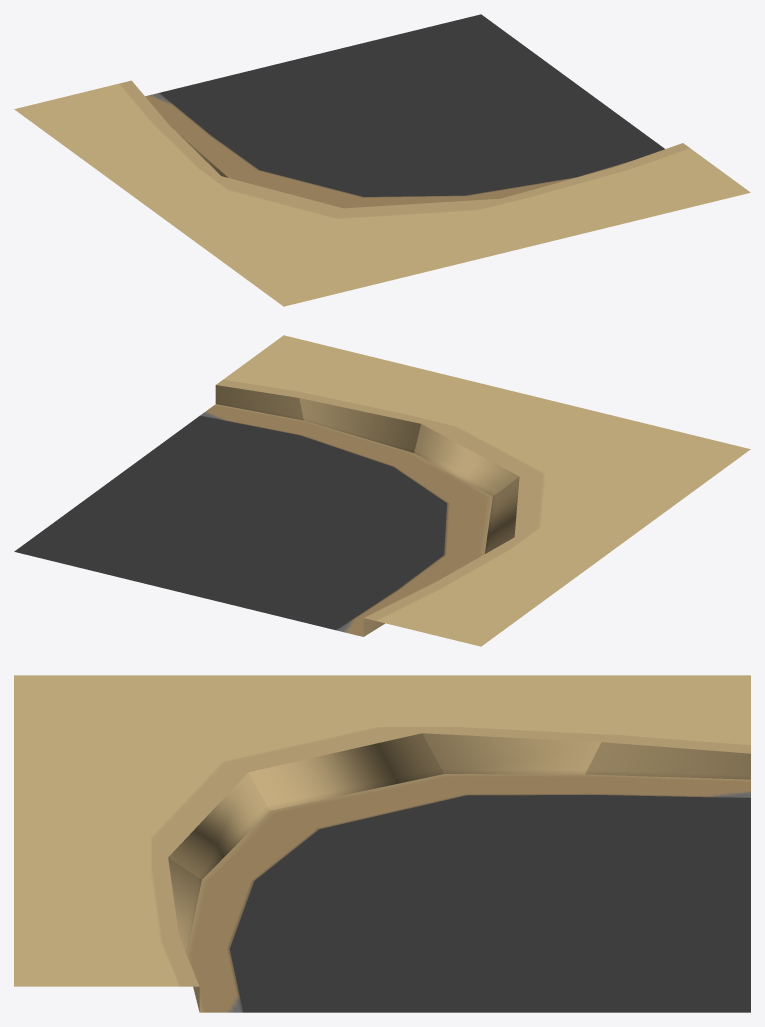
Rendered from SM_Env_Road_Asphalt_Bend_01.fbx.
The picture shows the model from 3 angles, top to bottom: view 1: azimuth 30°, elevation 25°; view 2: azimuth 150°, elevation 25°; view 3: azimuth 270°, elevation 25°; orthographic projection. The views are drawn at different scales.
Parts seen in each view (by area): view 1: SM_Env_Road_Asphalt_Bend_01; view 2: SM_Env_Road_Asphalt_Bend_01; view 3: SM_Env_Road_Asphalt_Bend_01.
Part boxes in pixels (left/top/right/bottom): SM_Env_Road_Asphalt_Bend_01: left=14, top=14, right=750, bottom=306; SM_Env_Road_Asphalt_Bend_01: left=14, top=335, right=750, bottom=646; SM_Env_Road_Asphalt_Bend_01: left=14, top=675, right=750, bottom=1012.
Bounding box in the file's own units: 5 × 0.1948 × 5.
